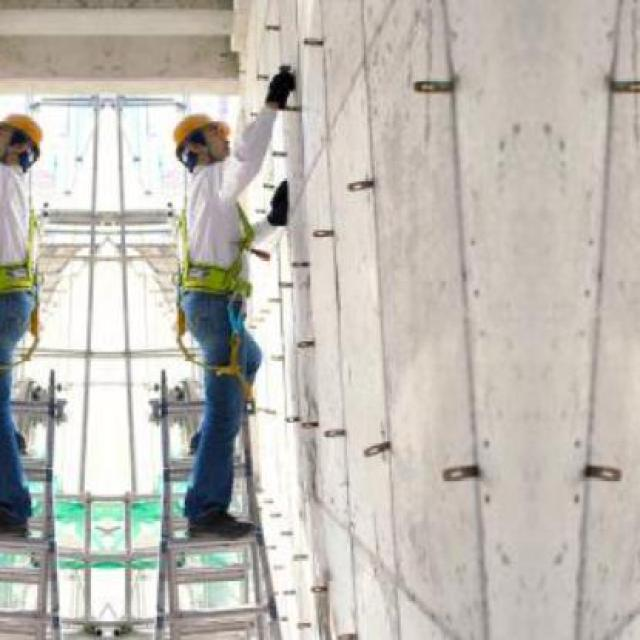helmet: (162, 108, 234, 172), (0, 108, 54, 172)
